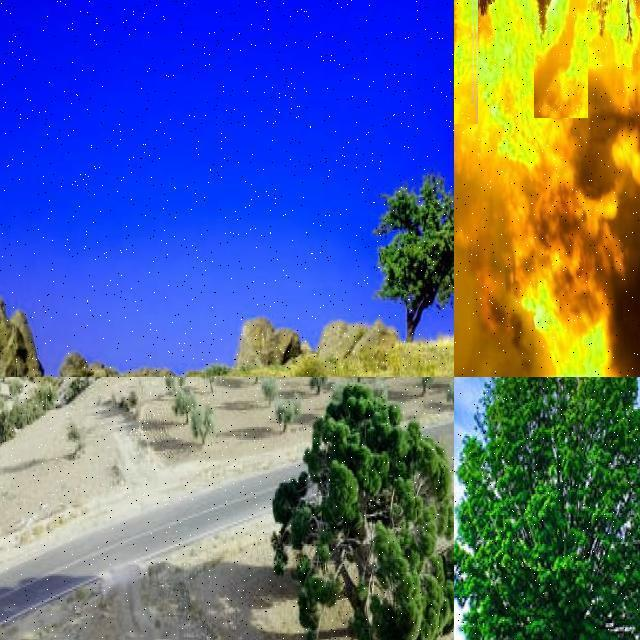tree: (262, 376, 454, 640), (459, 376, 640, 639), (382, 178, 454, 334), (534, 0, 588, 118), (587, 0, 640, 120), (462, 0, 514, 106), (454, 0, 478, 124), (454, 0, 478, 100), (454, 0, 474, 104), (454, 0, 468, 72), (454, 0, 466, 60), (329, 376, 351, 396)
